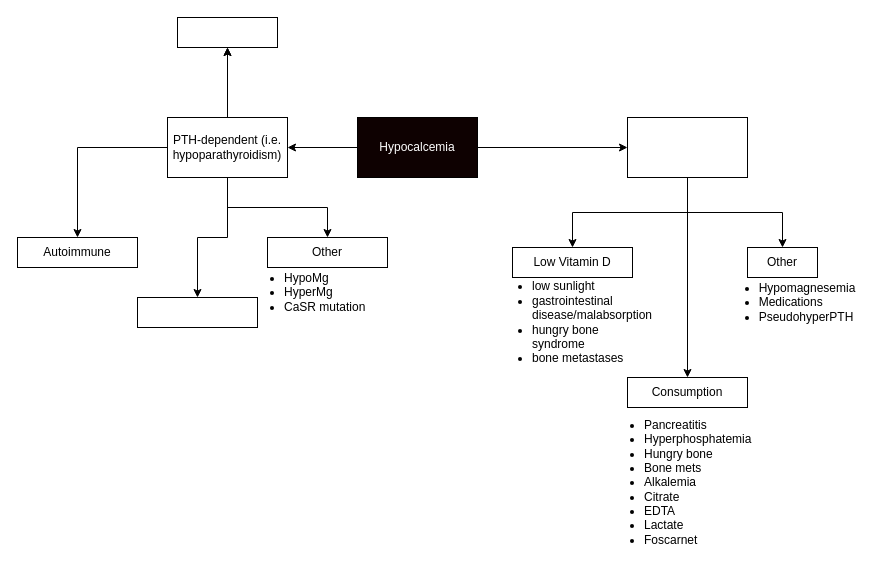
Image size: 873x577. Some labels were removed from this diagram. Each missing label, with the box of its shape:
Iatrogenic: (176, 16, 278, 48)
Infiltrative: (136, 296, 258, 328)
PTH-independent: (626, 116, 748, 178)
